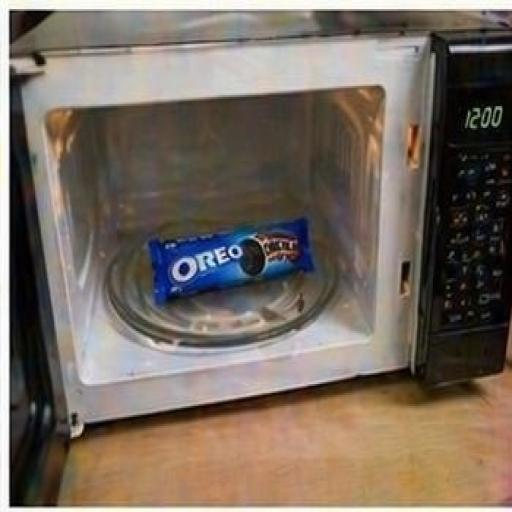oreo: (114, 170, 348, 347)
